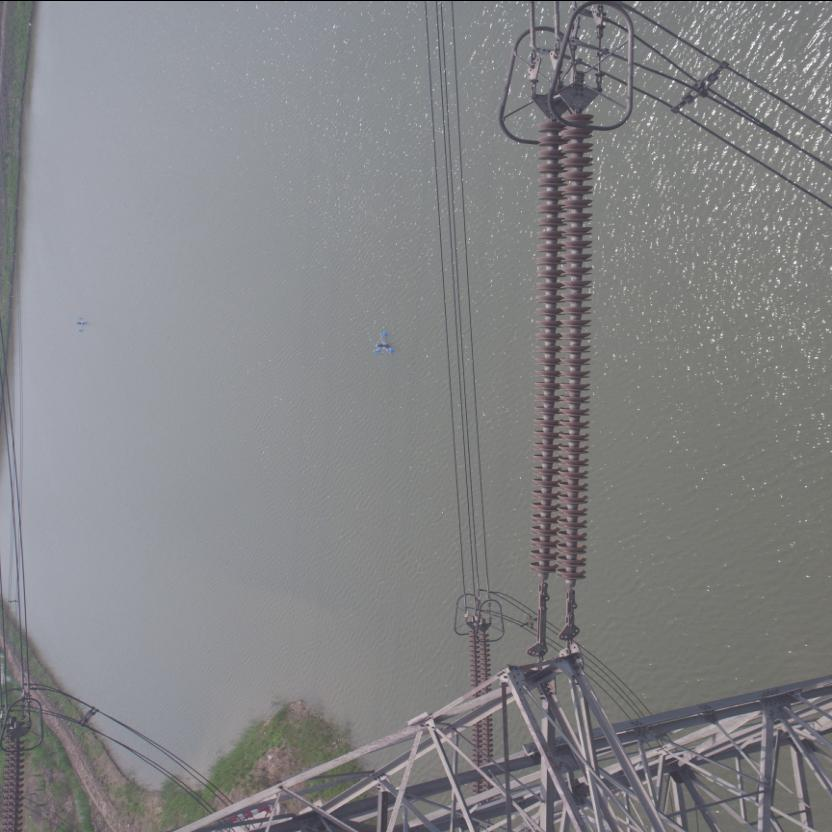insulator: (524, 109, 594, 608), (466, 620, 493, 796)
